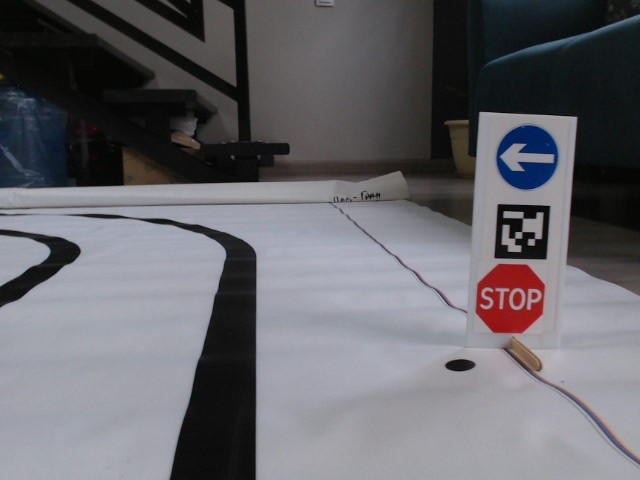Stop: (474, 263, 545, 338)
